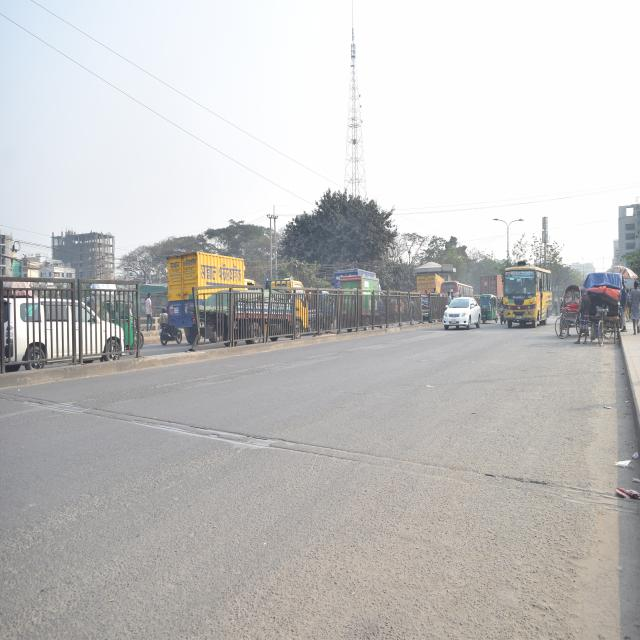bus: (502, 264, 554, 332)
car: (3, 280, 125, 380), (437, 292, 481, 335)
motorbike: (496, 298, 506, 334)
pickup-van: (166, 250, 261, 312)
